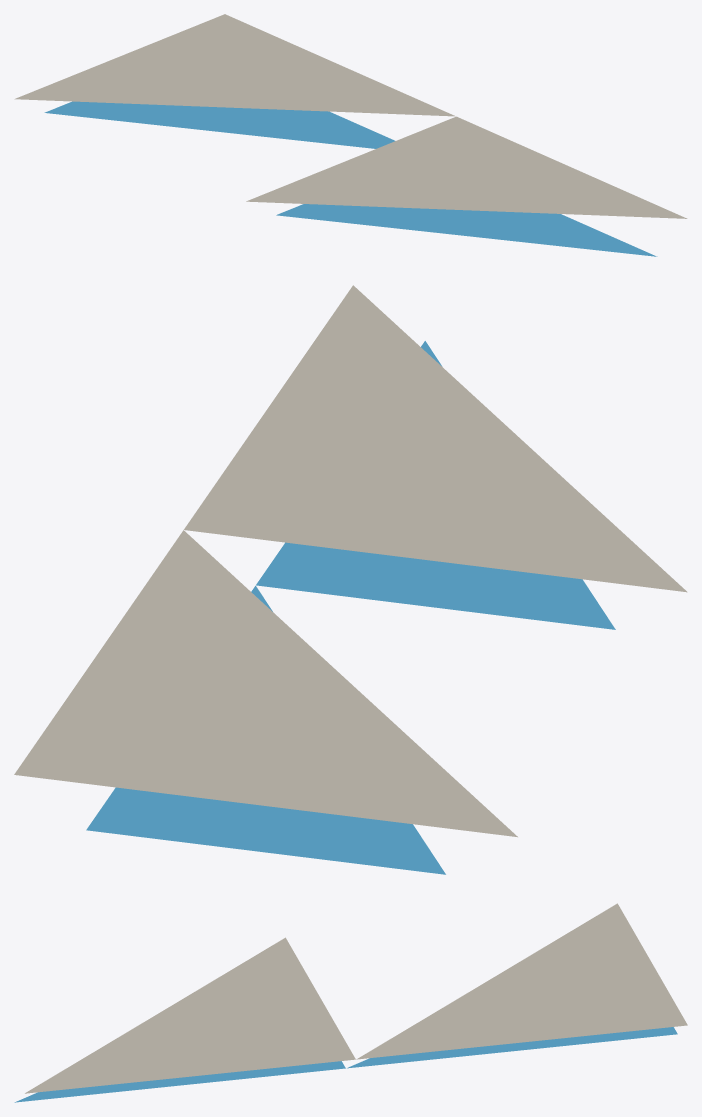
3 renders of one model, top to bottom at view 1: azimuth 30°, elevation 25°; view 2: azimuth 150°, elevation 25°; view 3: azimuth 270°, elevation 25°, orthographic. The views are drawn at different scales.
Parts seen in each view (by area): view 1: estructura_terreno, estructura_agua; view 2: estructura_terreno, estructura_agua; view 3: estructura_terreno, estructura_agua.
Boxes of the visible parts, x1,y1,x2,y2 form: estructura_terreno: (14, 14, 687, 218); estructura_agua: (44, 101, 657, 256); estructura_terreno: (14, 285, 687, 837); estructura_agua: (86, 341, 615, 874); estructura_terreno: (25, 903, 687, 1093); estructura_agua: (14, 1027, 677, 1102).
Bounding box in the file's own units: 6.36 × 0.41 × 9.52.
